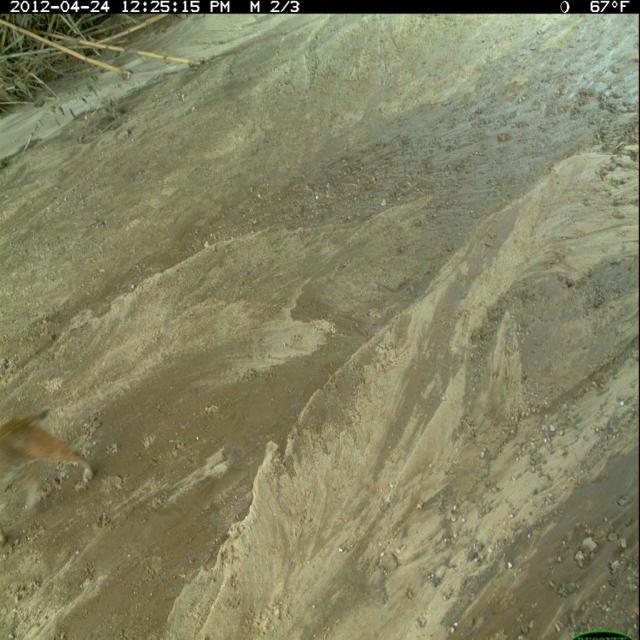bobcat: (1, 402, 97, 559)
